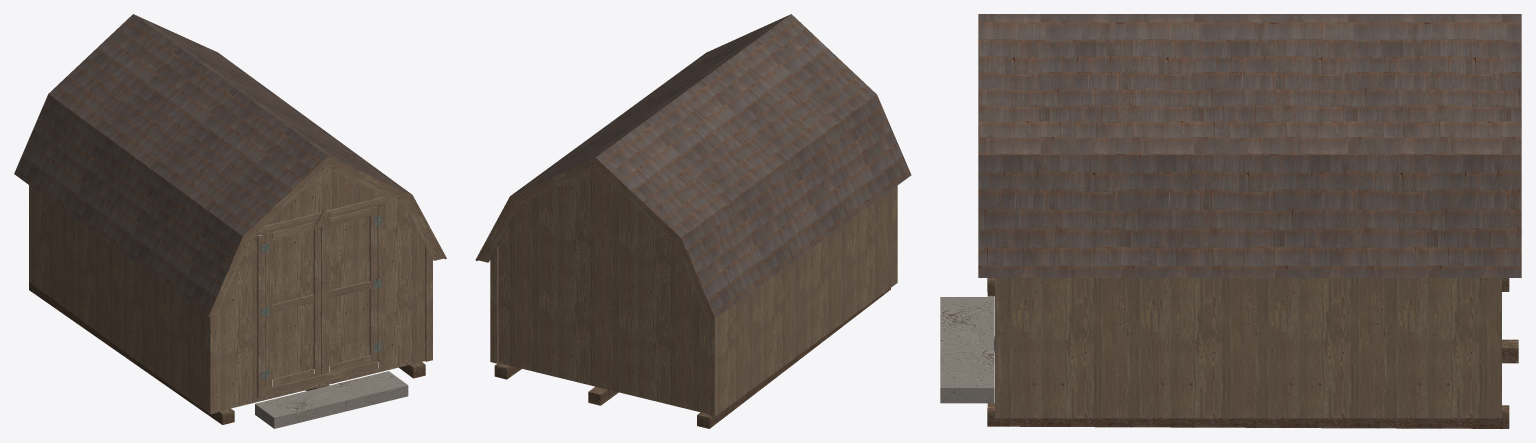
3 views of the same model, side by side, from view 1: azimuth 30°, elevation 25°; view 2: azimuth 150°, elevation 25°; view 3: azimuth 270°, elevation 25° (orthographic). The views are drawn at different scales.
Visible parts, largest first — view 1: Material2 (×5); view 2: Material2 (×3); view 3: Material2 (×4).
Boxes of the visible parts, x1,y1,x2,y2 form: Material2 (×5): (14, 14, 446, 428); Material2 (×3): (475, 14, 911, 428); Material2 (×4): (940, 14, 1521, 428).
Bounding box in the file's own units: 103 × 101 × 155.
Materials: 9 (6 with a texture image).
